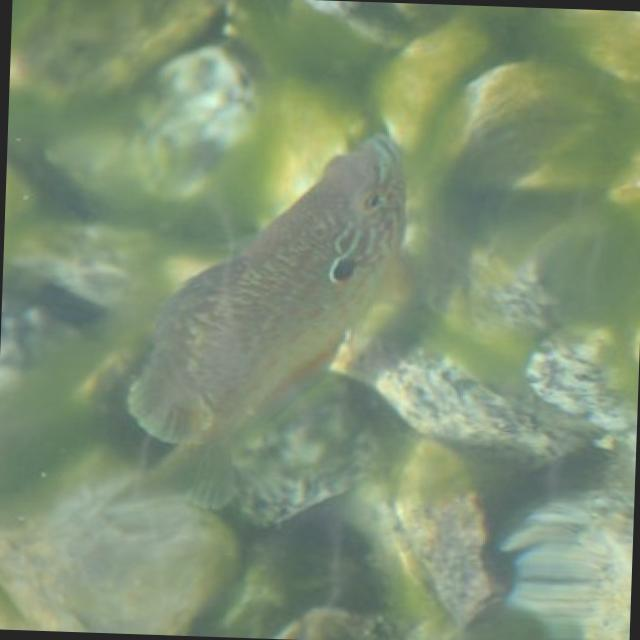Gunes Levregi: (93, 120, 414, 524)
